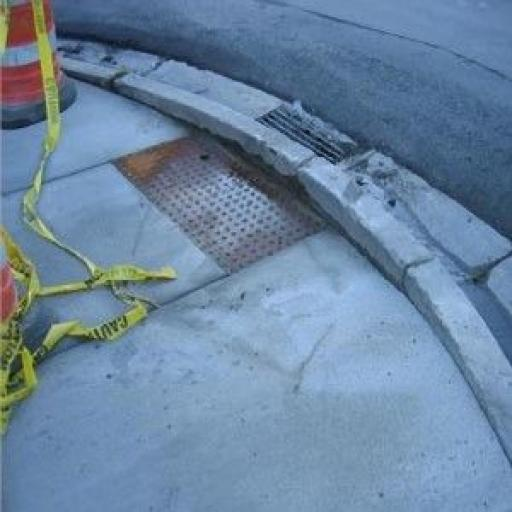chair: (0, 0, 175, 438)
construction_fence: (55, 43, 510, 507)
